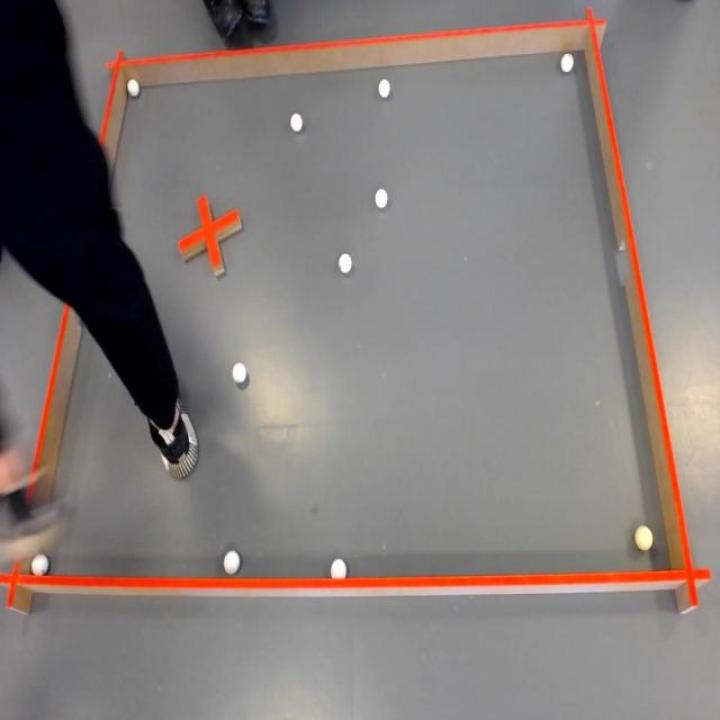white: (222, 548, 242, 576), (634, 523, 652, 553), (31, 551, 50, 579), (328, 556, 348, 582), (229, 360, 248, 387), (558, 51, 577, 76), (337, 250, 355, 275), (373, 187, 390, 212), (125, 77, 143, 100), (288, 113, 306, 135), (376, 78, 392, 102)
